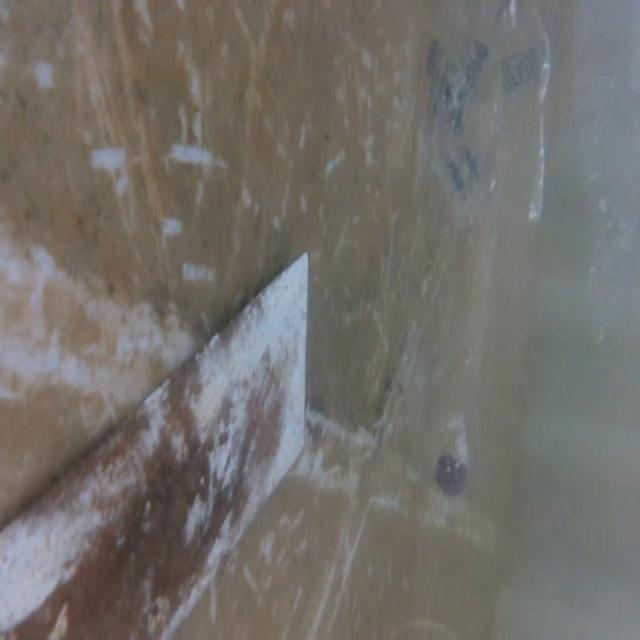metal: (0, 250, 310, 640)
plastic bags: (412, 0, 555, 231), (581, 0, 639, 365)
plastic bottle: (389, 308, 492, 524)
